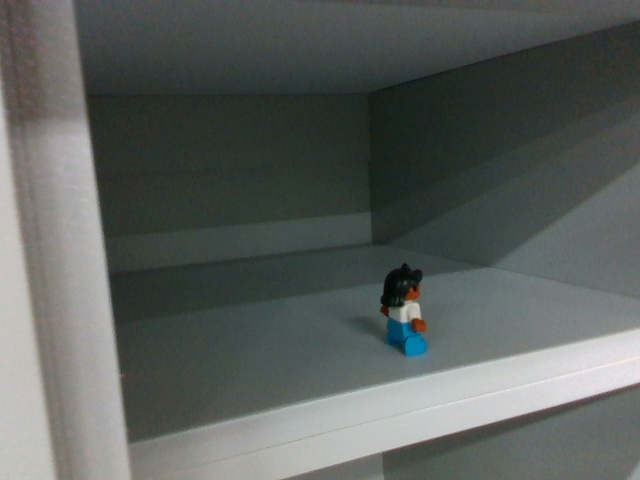people: (378, 263, 431, 358)
